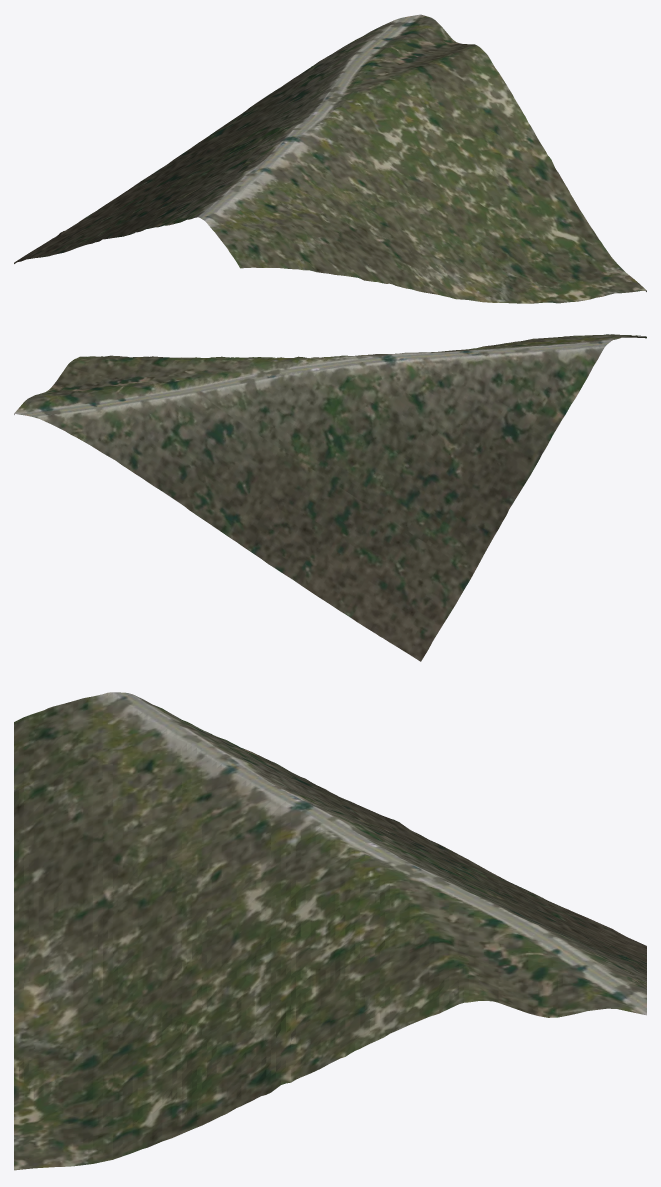
3 renders of one model, top to bottom at view 1: azimuth 30°, elevation 25°; view 2: azimuth 150°, elevation 25°; view 3: azimuth 270°, elevation 25°, orthographic. The views are drawn at different scales.
Bounding box in the file's own units: 250 × 107 × 241.
1 material, 1 textured.
